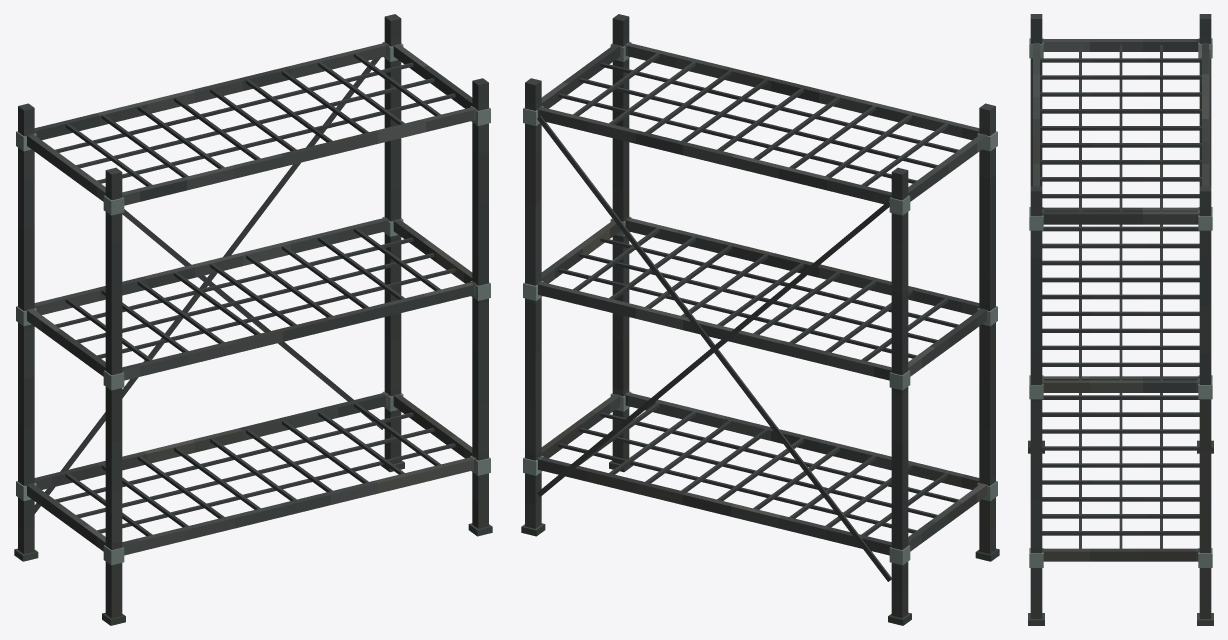
The model's file is iron-3-black.glb.
3 views of the same model, side by side, from view 1: azimuth 30°, elevation 25°; view 2: azimuth 150°, elevation 25°; view 3: azimuth 270°, elevation 25° (orthographic). The views are drawn at different scales.
Visible parts, largest first — view 1: iron-3-black/post-0-0, iron-3-black/post-1-0, iron-3-black/post-0-1, iron-3-black/post-1-1, iron-3-black/L2-rim-frontback--1, iron-3-black/L3-rim-frontback--1, iron-3-black/L1-rim-frontback--1, iron-3-black/L3-rim-frontback-1, iron-3-black/L1-rim-frontback-1, iron-3-black/L2-rim-frontback-1, iron-3-black/rear-brace-a, iron-3-black/rear-brace-b (+15 smaller); view 2: iron-3-black/post-0-1, iron-3-black/post-0-0, iron-3-black/post-1-1, iron-3-black/post-1-0, iron-3-black/L3-rim-frontback-1, iron-3-black/L2-rim-frontback-1, iron-3-black/L1-rim-frontback-1, iron-3-black/L3-rim-frontback--1, iron-3-black/L2-rim-frontback--1, iron-3-black/L1-rim-frontback--1, iron-3-black/rear-brace-a, iron-3-black/rear-brace-b (+15 smaller); view 3: iron-3-black/post-1-0, iron-3-black/post-1-1, iron-3-black/L1-rim-side-1, iron-3-black/L3-rim-side-1, iron-3-black/L2-rim-side-1, iron-3-black/L3-rim-side--1, iron-3-black/post-0-0, iron-3-black/L3-rim-frontback--1, iron-3-black/L3-rim-frontback-1, iron-3-black/L2-grid-depth-1, iron-3-black/L2-grid-depth-2, iron-3-black/L2-grid-depth-3 (+36 smaller).
Boxes of the visible parts, x1,y1,x2,y2 form: iron-3-black/post-0-0: (105,167,122,618); iron-3-black/post-1-0: (472,78,488,528); iron-3-black/post-0-1: (18,103,34,554); iron-3-black/post-1-1: (384,14,401,464); iron-3-black/L2-rim-frontback--1: (122,281,476,380); iron-3-black/L3-rim-frontback--1: (122,106,476,205); iron-3-black/L1-rim-frontback--1: (122,456,476,555); iron-3-black/L3-rim-frontback-1: (34,42,389,140); iron-3-black/L1-rim-frontback-1: (34,392,389,489); iron-3-black/L2-rim-frontback-1: (34,217,389,314); iron-3-black/rear-brace-a: (34,57,380,513); iron-3-black/rear-brace-b: (122,209,383,429); iron-3-black/post-0-1: (891,167,908,618); iron-3-black/post-0-0: (979,103,995,554); iron-3-black/post-1-1: (525,78,541,528); iron-3-black/post-1-0: (612,14,629,464); iron-3-black/L3-rim-frontback-1: (537,106,891,204); iron-3-black/L2-rim-frontback-1: (537,281,891,380); iron-3-black/L1-rim-frontback-1: (537,456,891,555); iron-3-black/L3-rim-frontback--1: (624,42,979,140); iron-3-black/L2-rim-frontback--1: (624,217,979,314); iron-3-black/L1-rim-frontback--1: (624,392,979,489); iron-3-black/rear-brace-a: (537,116,891,581); iron-3-black/rear-brace-b: (537,201,889,496); iron-3-black/post-1-0: (1030,186,1042,618); iron-3-black/post-1-1: (1199,186,1211,618); iron-3-black/L1-rim-side-1: (1042,548,1199,561); iron-3-black/L3-rim-side-1: (1042,211,1199,224); iron-3-black/L2-rim-side-1: (1042,380,1199,392); iron-3-black/L3-rim-side--1: (1042,39,1199,51); iron-3-black/post-0-0: (1030,14,1042,186); iron-3-black/L3-rim-frontback--1: (1033,43,1039,186); iron-3-black/L3-rim-frontback-1: (1202,43,1208,186); iron-3-black/L2-grid-depth-1: (1042,243,1199,248); iron-3-black/L2-grid-depth-2: (1042,260,1199,265); iron-3-black/L2-grid-depth-3: (1042,277,1199,282).
Bounding box in the file's own units: 1 × 1.12 × 0.4375.
Materials: 4 (4 with a texture image).
